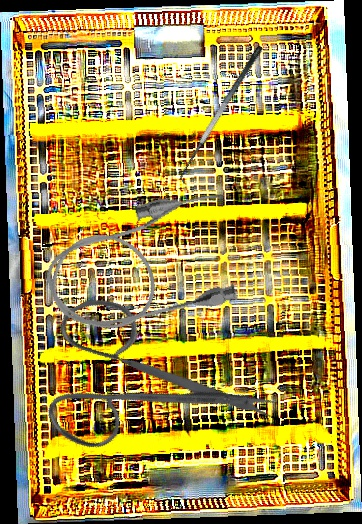Cannula: (35, 183, 250, 346)
Iris Scissors: (10, 244, 283, 507)
Spatula Surgical: (171, 44, 275, 187)
